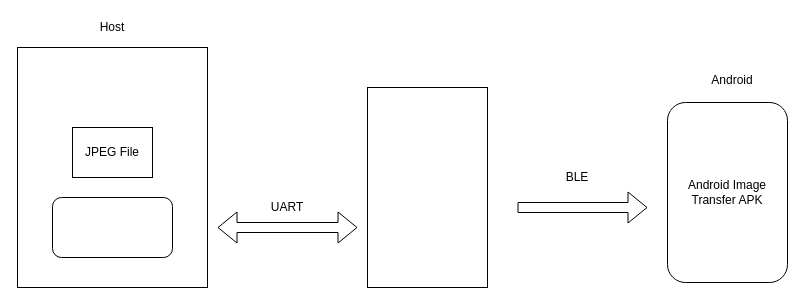
The diagram is 805 pixels wide and 305 high, and some of its shapes have lost their labels. The centre of each missing label's shape, as x and y in pixels:
"NRF52 Image Transfer Service" belongs at (x=427, y=187).
"Python Script" belongs at (x=112, y=227).
